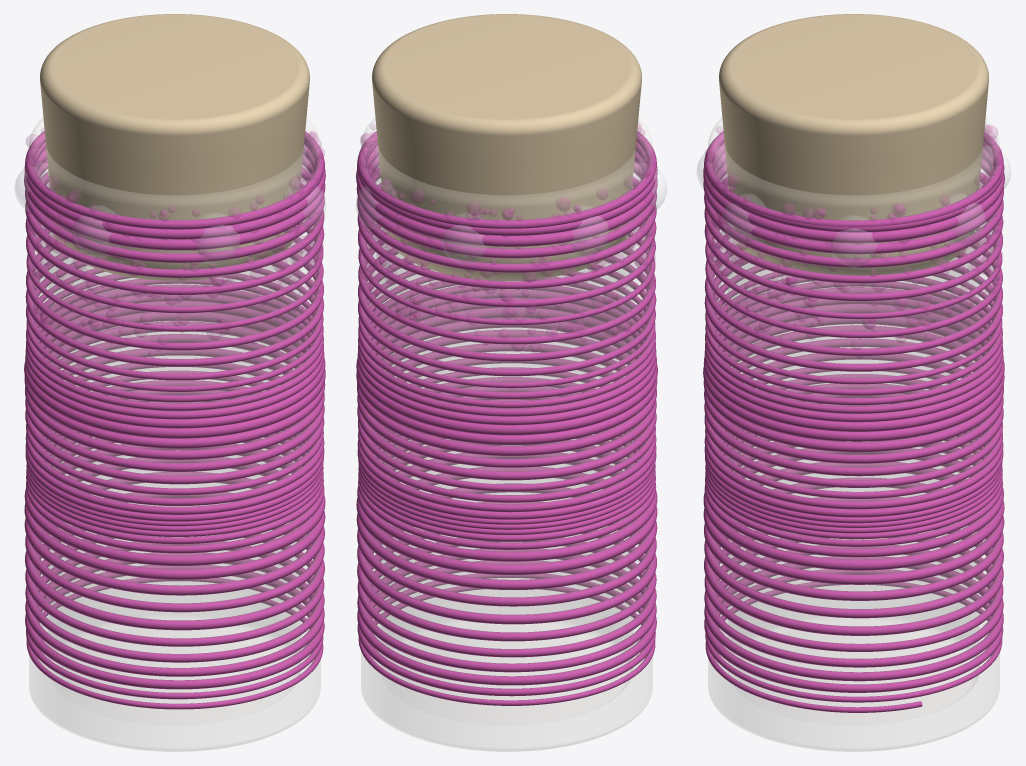
The model's file is jar_clear_gold.glb.
The picture shows the model from 3 angles, left to right: view 1: azimuth 30°, elevation 25°; view 2: azimuth 150°, elevation 25°; view 3: azimuth 270°, elevation 25°; orthographic projection.
Parts seen in each view (by area): view 1: lines, body, cork, frit, marbles; view 2: lines, body, cork, frit, marbles; view 3: lines, body, cork, frit, marbles.
Boxes of the visible parts, x1,y1,x2,y2 form: lines: (24, 131, 325, 709); body: (29, 118, 320, 751); cork: (40, 14, 309, 280); frit: (26, 128, 324, 357); marbles: (14, 145, 326, 264); lines: (356, 131, 657, 705); body: (361, 118, 652, 751); cork: (372, 14, 641, 280); frit: (358, 122, 655, 352); marbles: (355, 145, 667, 264); lines: (703, 131, 1004, 712); body: (708, 118, 999, 751); cork: (719, 14, 988, 275); frit: (705, 123, 1002, 358); marbles: (697, 146, 1010, 267).
Size of the model in its own units: 0.047 by 0.104 by 0.0475.
